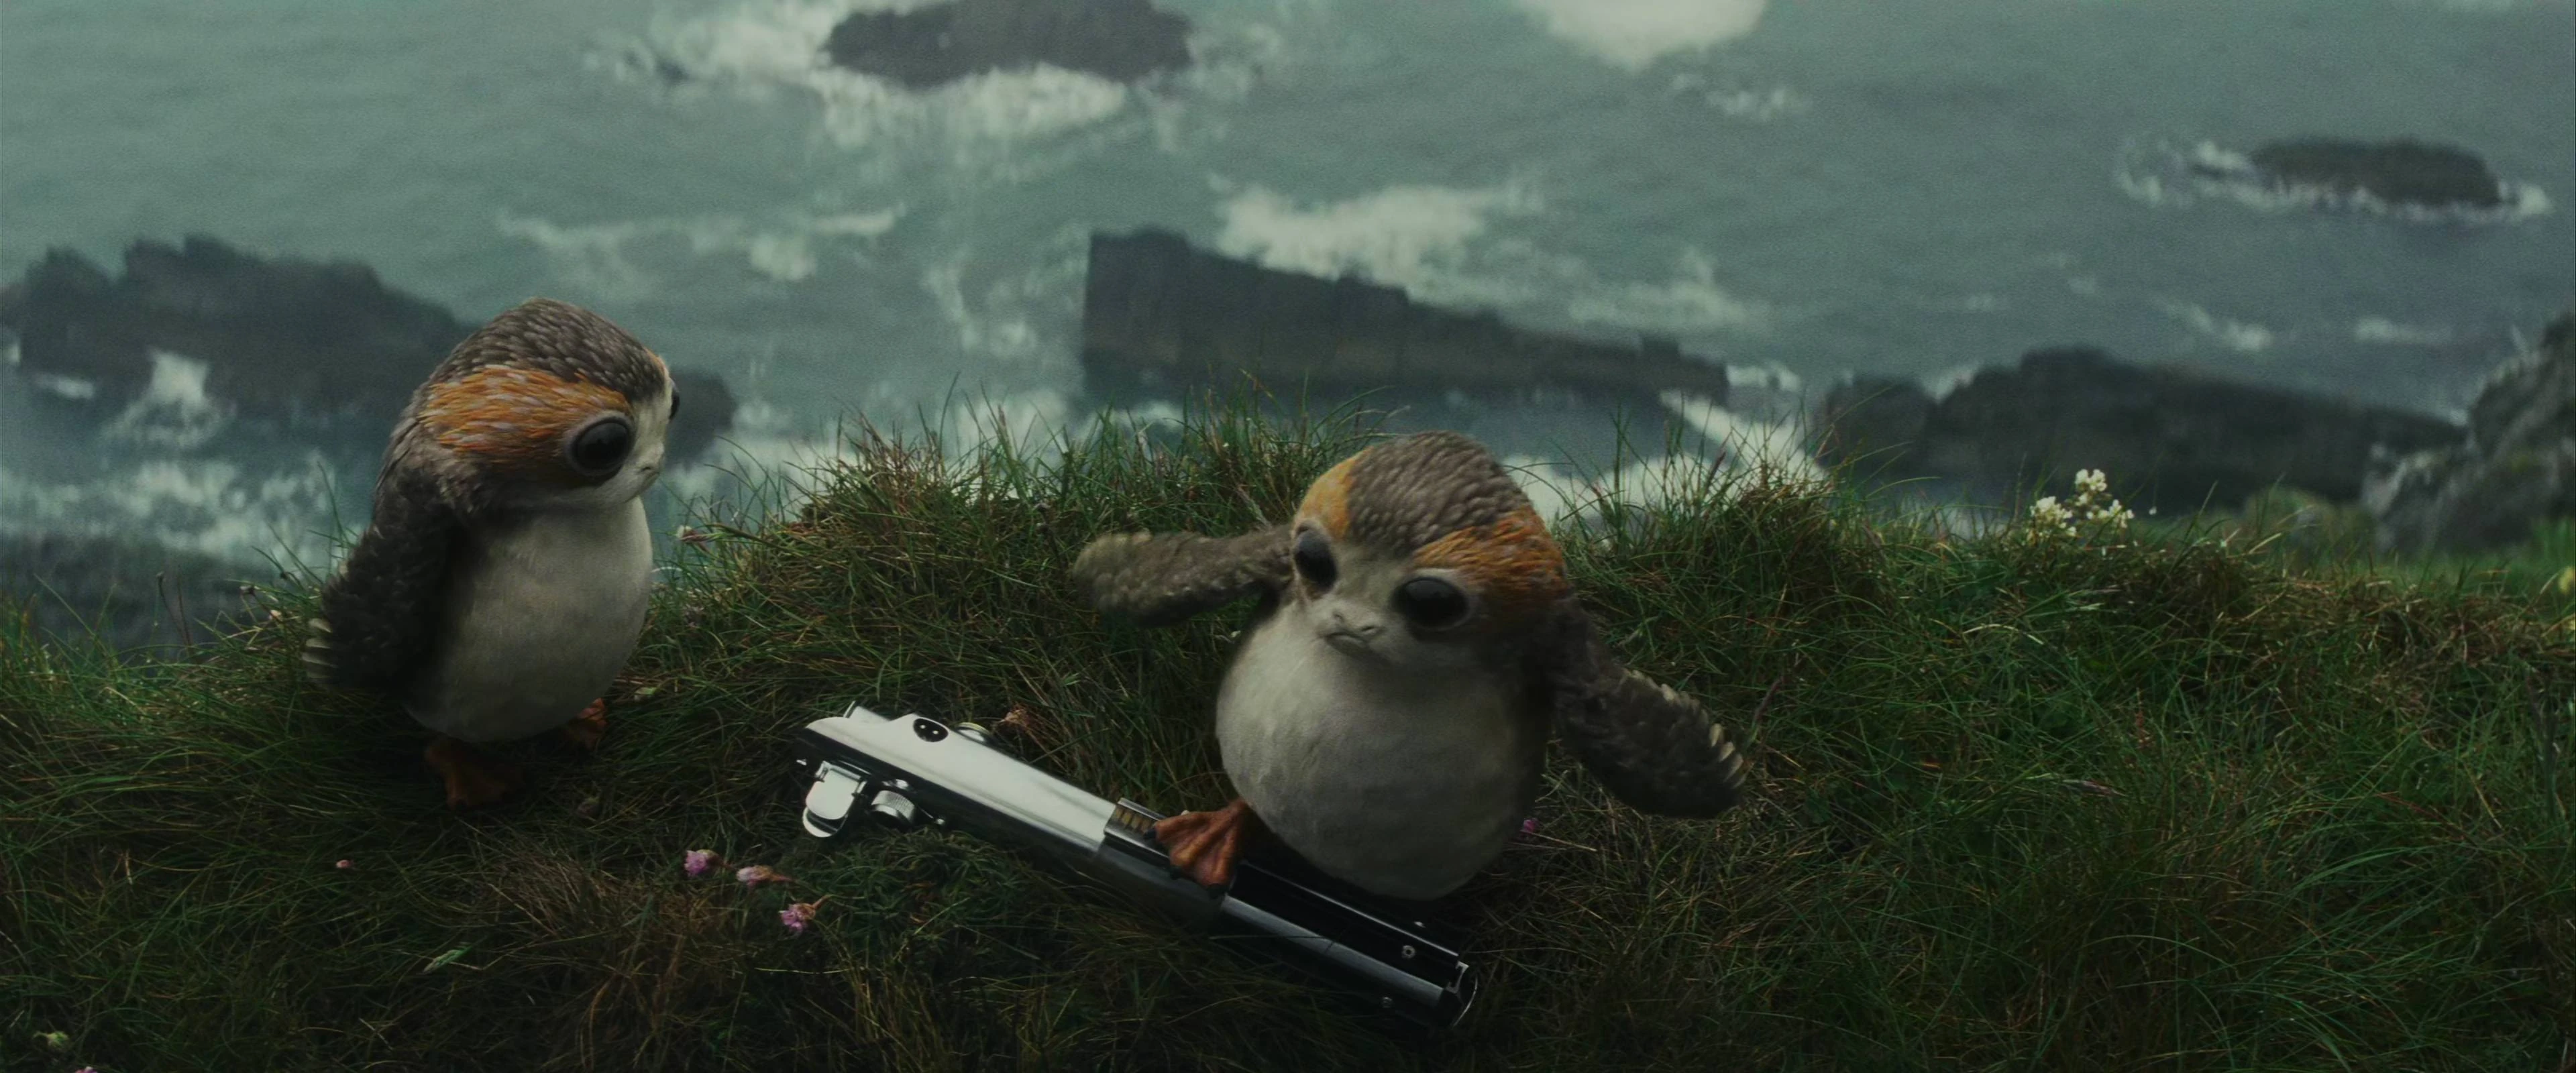Dalek: (780, 684, 1503, 1038)
